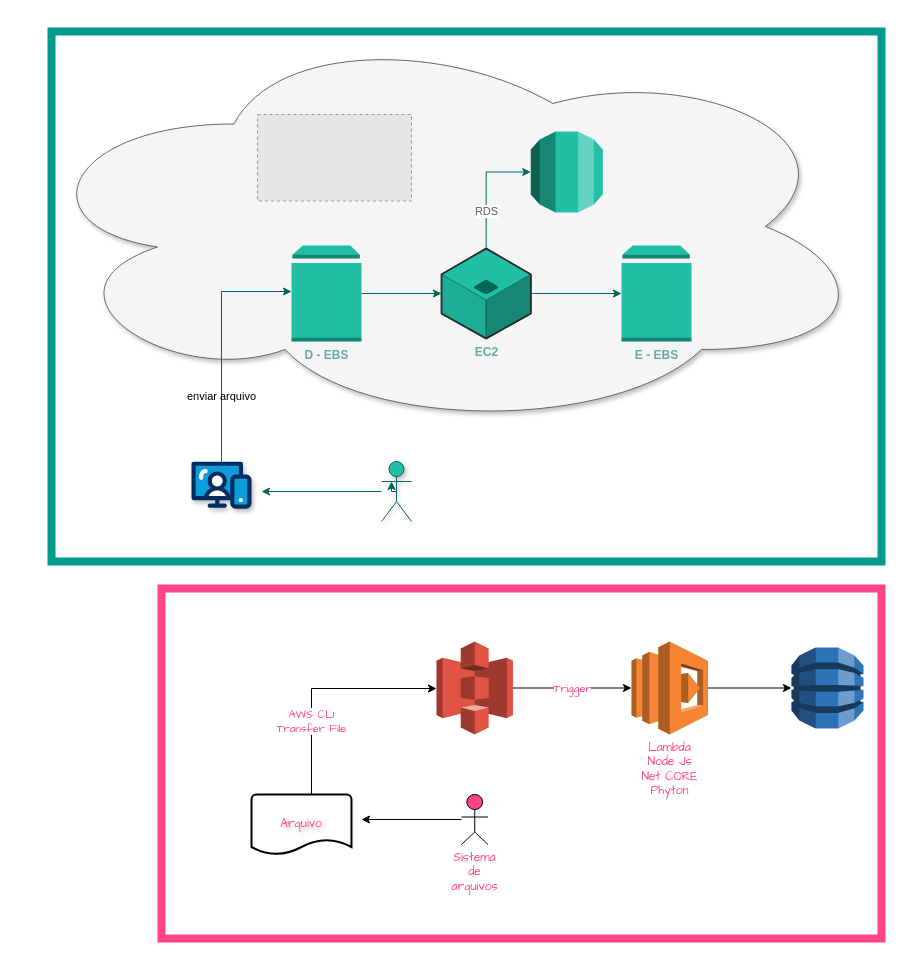
Some shapes in this 903 by 960 pixel diagram are drawn without their labels. Grey dashed boxes stand in for pictures. The shapes that lost their labels are listed below. From the top down, each one's centre as x and y in pixels, then its label:
[397,492]: Actor
[474,687]: S3
[827,687]: Dynamo
